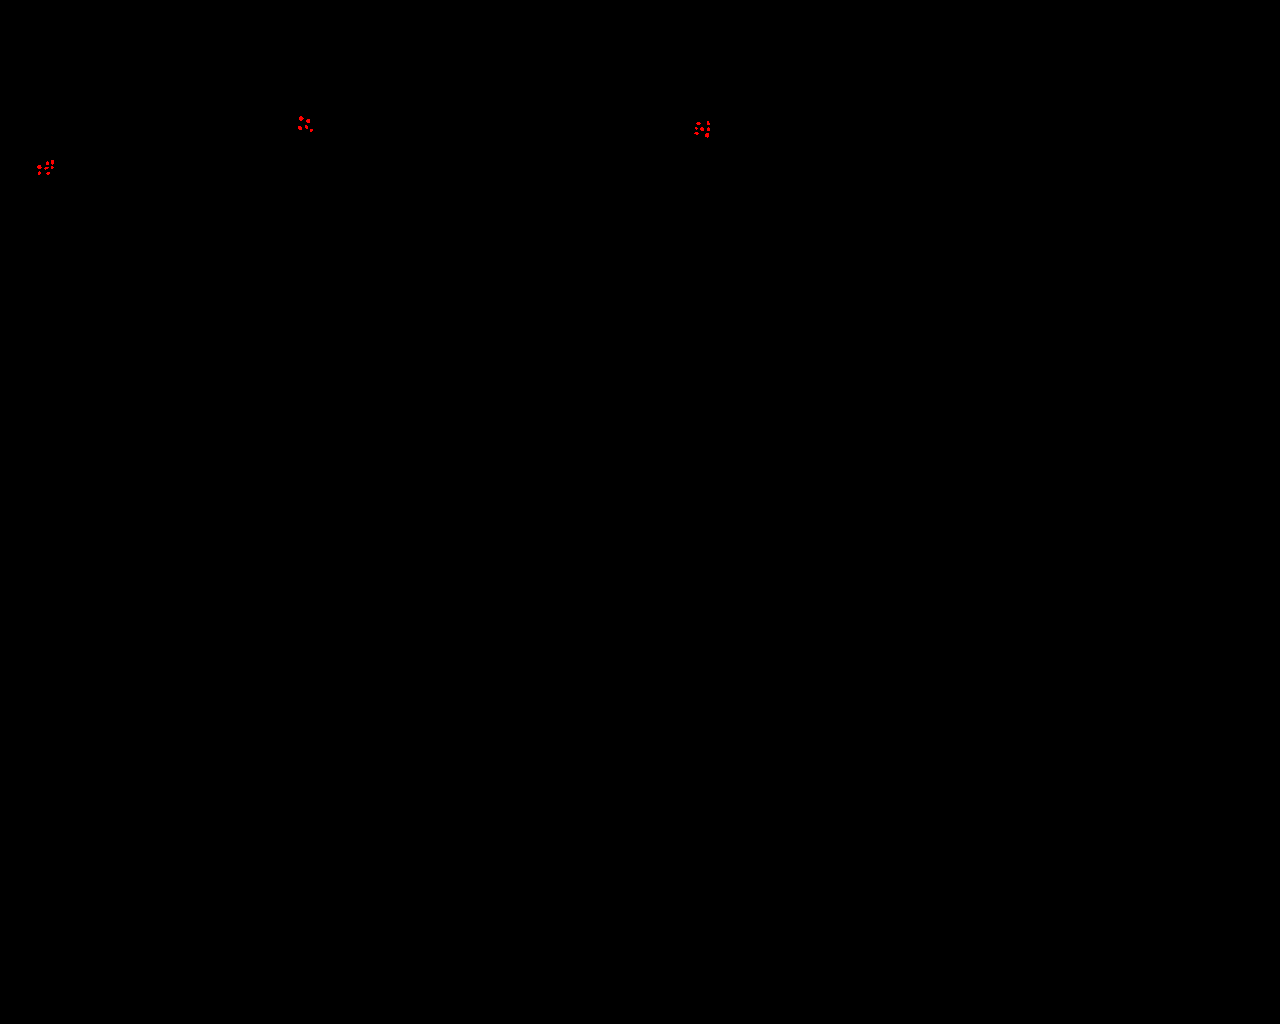Target: (299, 116, 304, 121), (705, 133, 709, 138), (37, 165, 42, 169), (306, 119, 310, 123), (696, 122, 701, 125), (694, 132, 699, 135), (51, 160, 54, 165), (44, 167, 49, 170), (298, 126, 302, 130), (700, 127, 704, 131), (46, 161, 49, 165), (305, 125, 308, 129), (310, 129, 313, 132), (51, 166, 54, 169), (38, 171, 41, 174), (707, 121, 709, 125), (46, 172, 50, 174), (695, 127, 698, 130), (707, 127, 709, 131)
